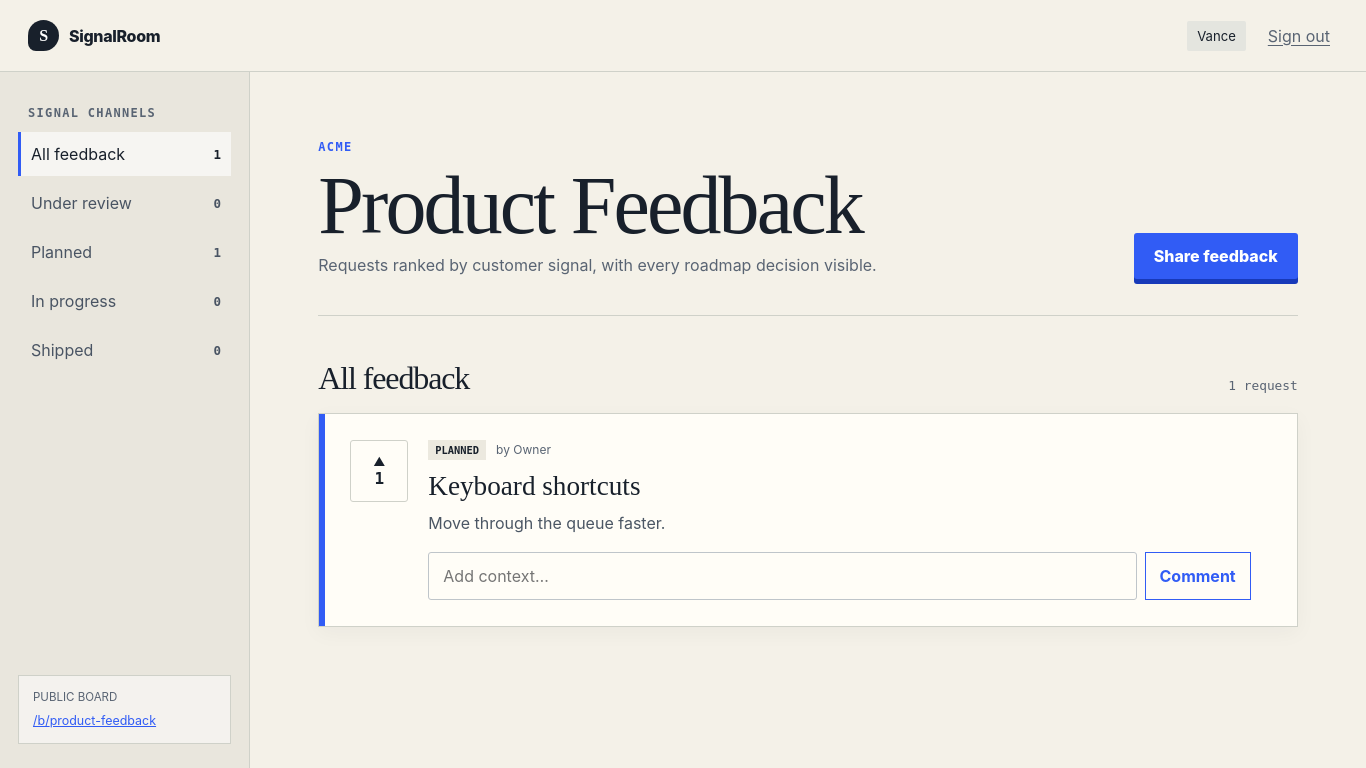
Test case: SignalRoom onboarding › submits a comment, clears the form, and reloads the conversation
Expected: the button named "Vote for Keyboard shortcuts. 1 vote" is shown, [350,440,408,502]
Type "Useful for weekly triage." into the field named "Add a comment to Keyboard shortcuts" at point(782, 576), box [428,552,1136,600]
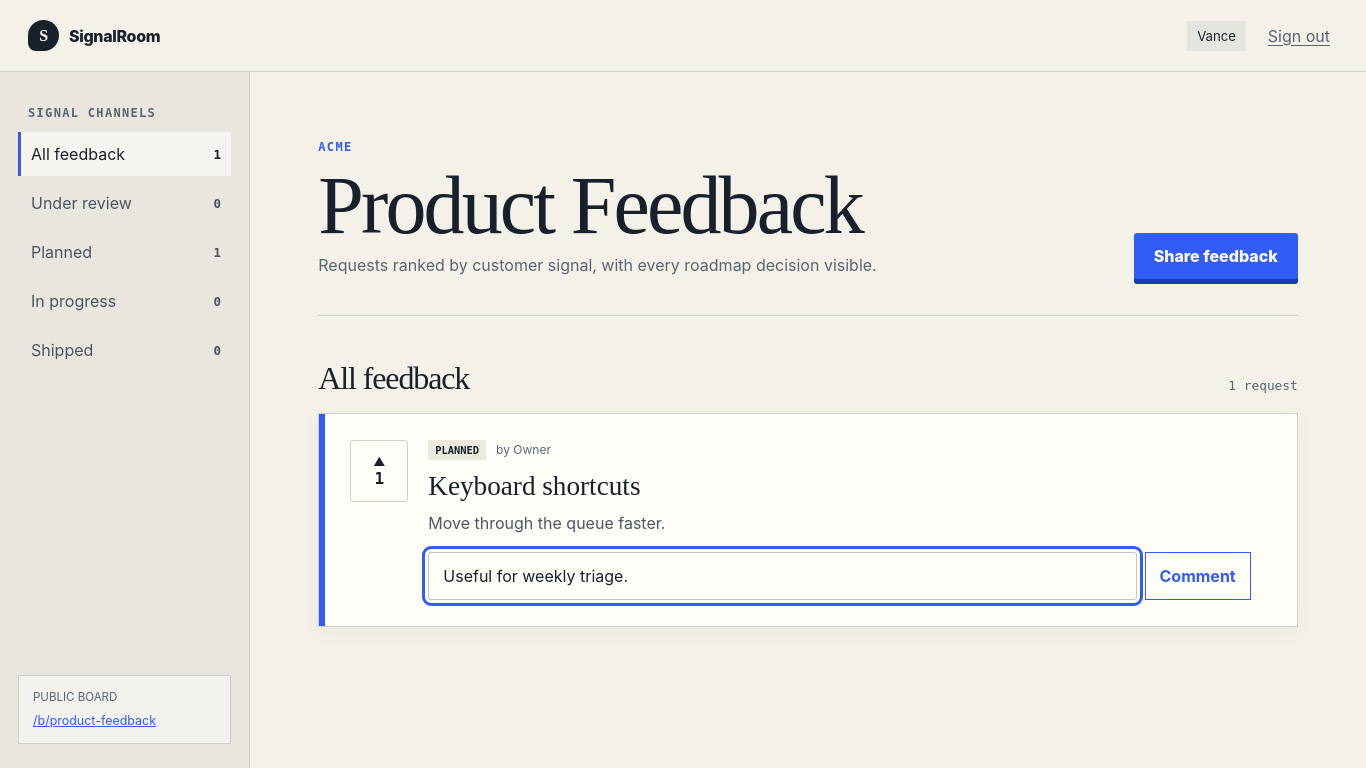
Click the button "Comment" at point(1198, 576), box [1144,552,1251,600]
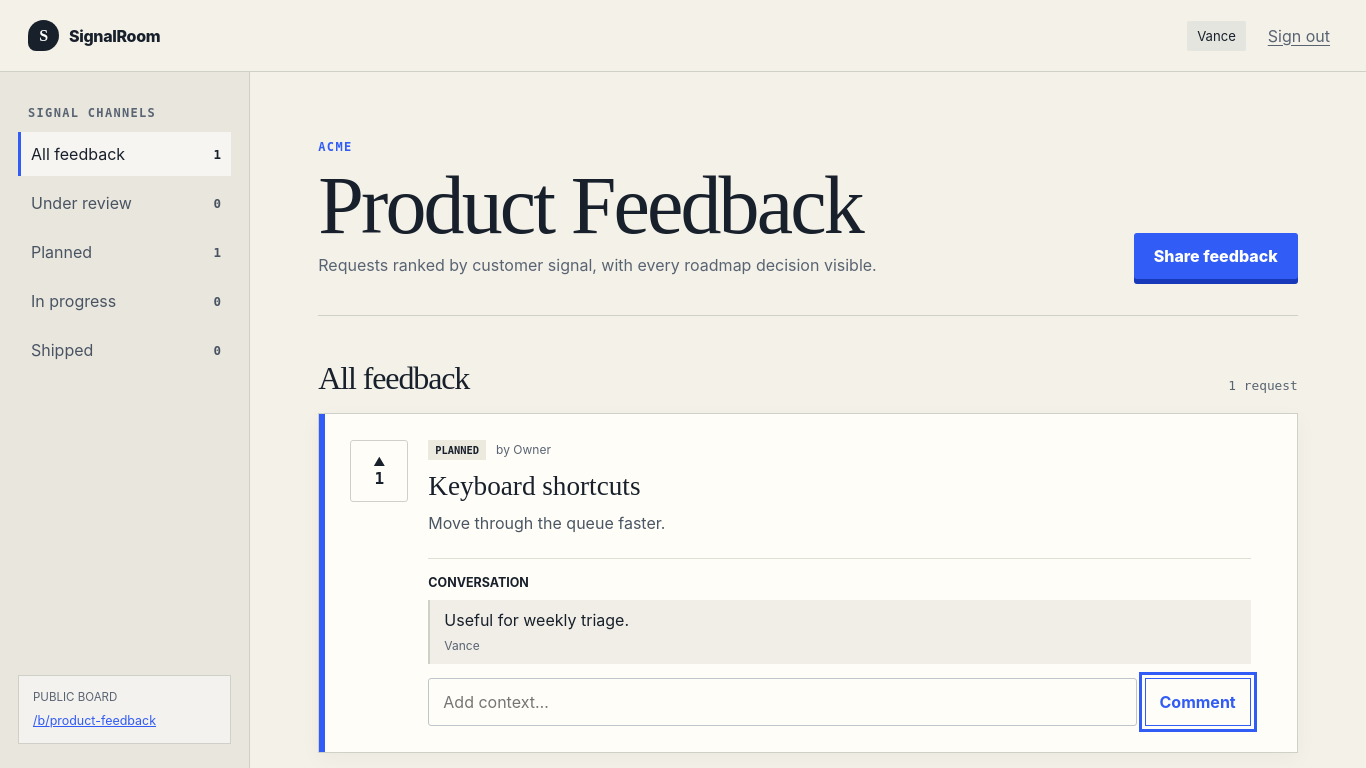
Expected: the text "Useful for weekly triage." is shown, [444,610,629,630]
Expected: the field named "Add a comment to Keyboard shortcuts" is empty, [428,678,1136,726]
